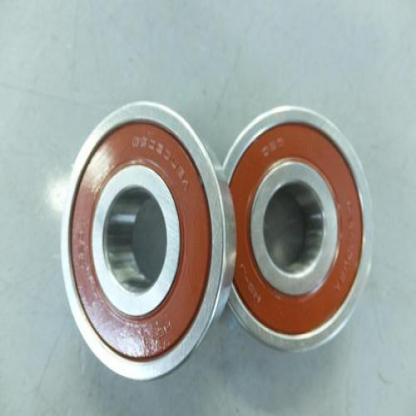FOD: (58, 94, 240, 387), (213, 102, 378, 359)
